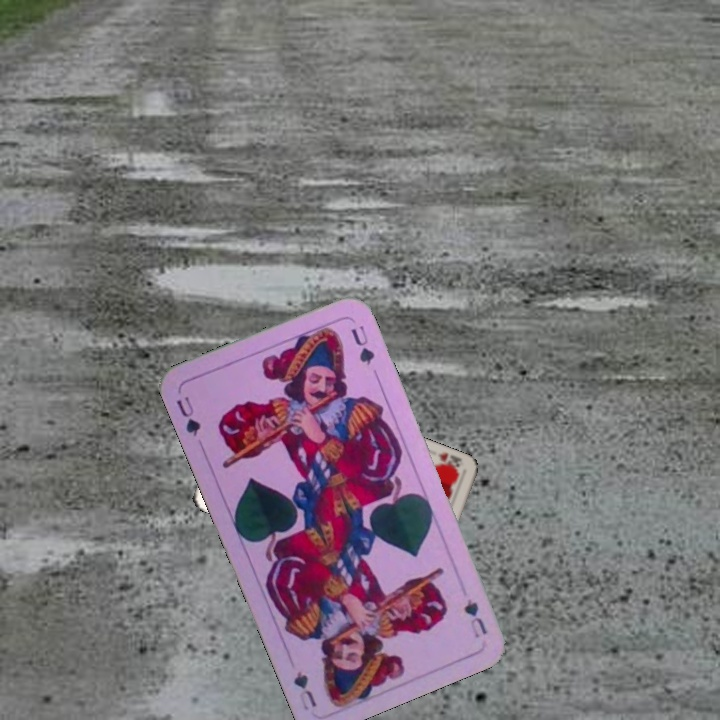GU: (172, 392, 204, 439), (459, 594, 490, 641)
HK: (430, 449, 464, 475)
